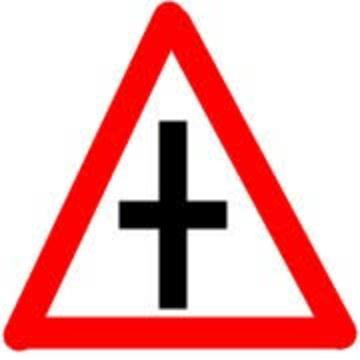fork_road: (1, 0, 358, 354)
